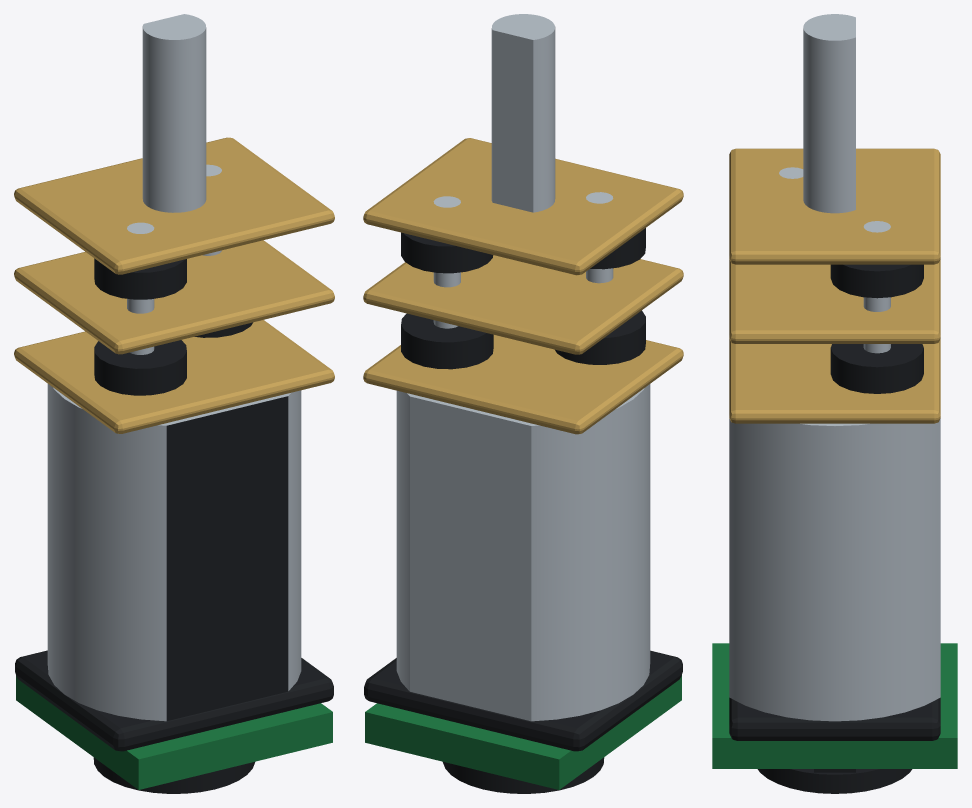
The model's file is motor_50to1_hpcb_12v_ext.glb.
3 renders of one model, left to right at view 1: azimuth 30°, elevation 25°; view 2: azimuth 150°, elevation 25°; view 3: azimuth 270°, elevation 25°, orthographic.
Visible parts, largest first — view 1: part_motor_50to1_hpcb_12v_ext__steel, part_motor_50to1_hpcb_12v_ext__brass, part_motor_50to1_hpcb_12v_ext__black_polymer, part_motor_50to1_hpcb_12v_ext__pcb; view 2: part_motor_50to1_hpcb_12v_ext__steel, part_motor_50to1_hpcb_12v_ext__brass, part_motor_50to1_hpcb_12v_ext__black_polymer, part_motor_50to1_hpcb_12v_ext__pcb; view 3: part_motor_50to1_hpcb_12v_ext__steel, part_motor_50to1_hpcb_12v_ext__brass, part_motor_50to1_hpcb_12v_ext__black_polymer, part_motor_50to1_hpcb_12v_ext__pcb.
Boxes of the visible parts, bbox=[...] form: part_motor_50to1_hpcb_12v_ext__steel: bbox=[47, 14, 301, 721]; part_motor_50to1_hpcb_12v_ext__brass: bbox=[14, 137, 334, 433]; part_motor_50to1_hpcb_12v_ext__black_polymer: bbox=[15, 258, 333, 793]; part_motor_50to1_hpcb_12v_ext__pcb: bbox=[16, 675, 332, 789]; part_motor_50to1_hpcb_12v_ext__steel: bbox=[396, 14, 650, 721]; part_motor_50to1_hpcb_12v_ext__brass: bbox=[363, 138, 683, 434]; part_motor_50to1_hpcb_12v_ext__black_polymer: bbox=[364, 228, 682, 793]; part_motor_50to1_hpcb_12v_ext__pcb: bbox=[365, 675, 681, 789]; part_motor_50to1_hpcb_12v_ext__steel: bbox=[729, 14, 940, 721]; part_motor_50to1_hpcb_12v_ext__brass: bbox=[729, 148, 940, 423]; part_motor_50to1_hpcb_12v_ext__black_polymer: bbox=[729, 264, 940, 793]; part_motor_50to1_hpcb_12v_ext__pcb: bbox=[712, 643, 957, 768].
Size of the model in its own units: 0.012 by 0.0391 by 0.0116.
